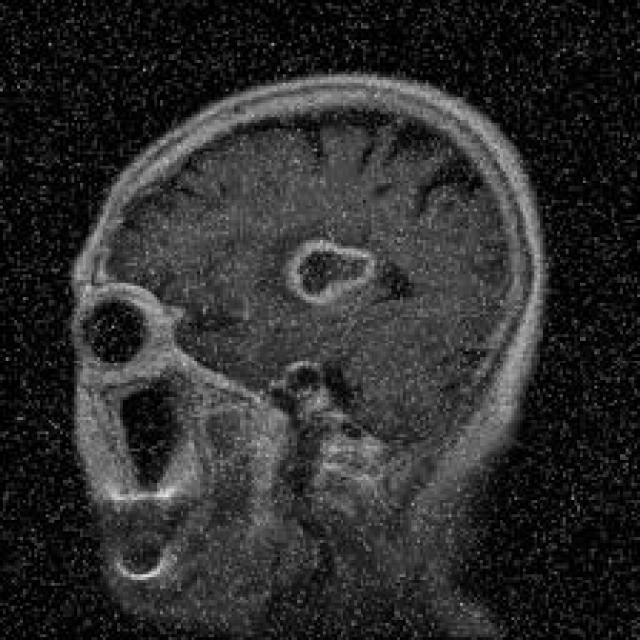glioma_tumor: (260, 216, 437, 328)
